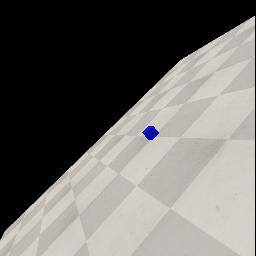box: (142, 126, 159, 140)
